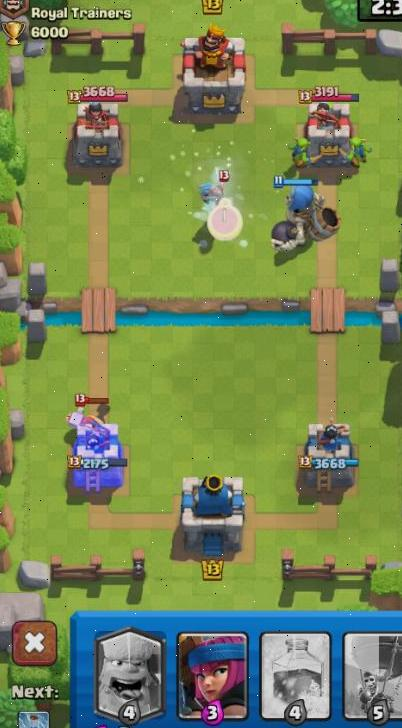enemy_ice_wizard: (195, 165, 246, 242)
player_giant_skeleton: (265, 176, 342, 255)
player_goblins: (345, 130, 373, 165), (285, 134, 312, 165)
